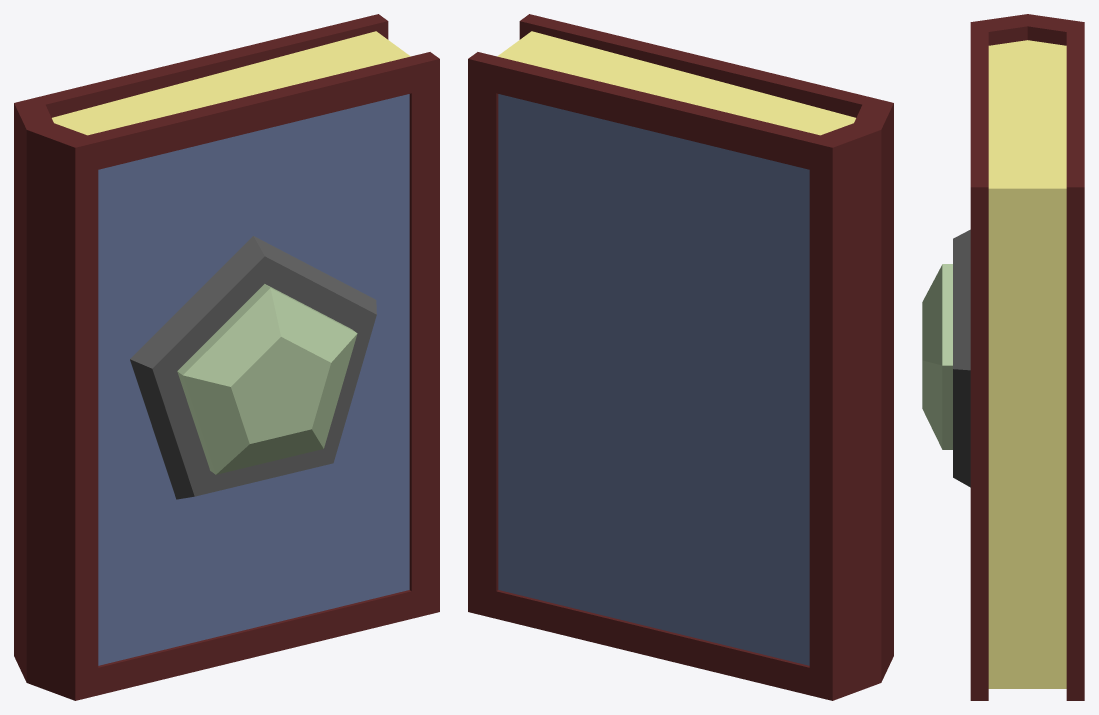
The model's file is Spell Tome.fbx.
3 views of the same model, side by side, from view 1: azimuth 30°, elevation 25°; view 2: azimuth 150°, elevation 25°; view 3: azimuth 270°, elevation 25° (orthographic). The views are drawn at different scales.
Visible parts, largest first — view 1: Magic Tome; view 2: Magic Tome; view 3: Magic Tome.
Boxes of the visible parts, left/top/right/bottom form: Magic Tome: left=14, top=14, right=439, bottom=700; Magic Tome: left=468, top=14, right=893, bottom=700; Magic Tome: left=922, top=14, right=1084, bottom=700.
Bounding box in the file's own units: 43.23 × 59.72 × 17.09.
